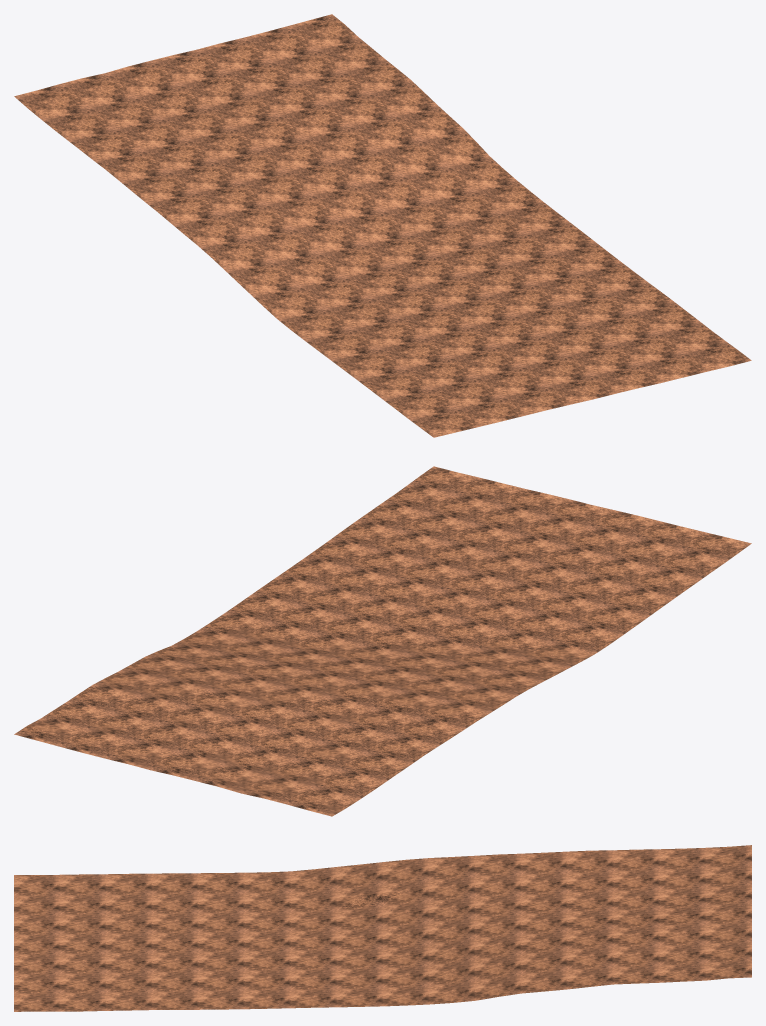
The model's file is terrain_11_23.dae.
The picture shows the model from 3 angles, top to bottom: view 1: azimuth 30°, elevation 25°; view 2: azimuth 150°, elevation 25°; view 3: azimuth 270°, elevation 25°; orthographic projection. The views are drawn at different scales.
Visible parts, largest first — view 1: terrain_11_23-node; view 2: terrain_11_23-node; view 3: terrain_11_23-node.
Part boxes in pixels (x1,y1,x2,y2): terrain_11_23-node: (14, 14, 751, 437); terrain_11_23-node: (14, 466, 751, 816); terrain_11_23-node: (14, 845, 751, 1011).
Size of the model in its own units: 56 by 128 by 6.64.
1 material, 1 textured.
